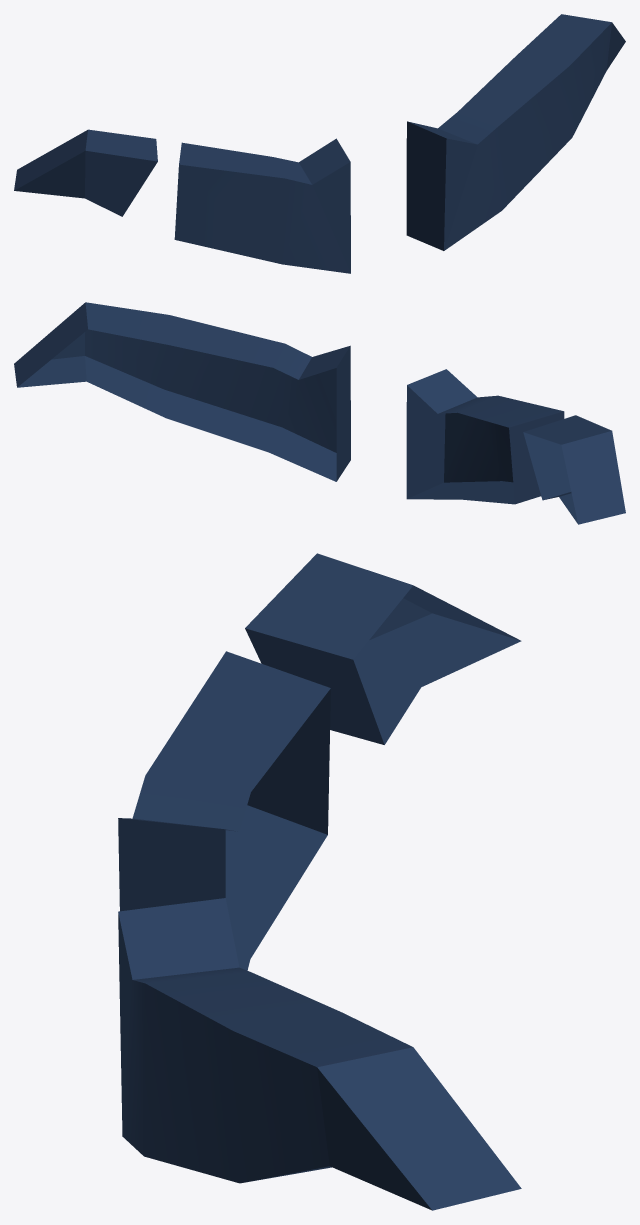
The model's file is Brow_Blue_9.fbx.
3 views of the same model, one above another, from view 1: azimuth 30°, elevation 25°; view 2: azimuth 150°, elevation 25°; view 3: azimuth 270°, elevation 25° (orthographic). The views are drawn at different scales.
Visible parts, largest first — view 1: Brow_Blue_9; view 2: Brow_Blue_9; view 3: Brow_Blue_9.
Part boxes in pixels (x1,y1,x2,y2): Brow_Blue_9: (14, 14, 625, 273); Brow_Blue_9: (14, 302, 625, 524); Brow_Blue_9: (118, 553, 521, 1210).
Size of the model in its own units: 41.99 by 9.24 by 11.99.
